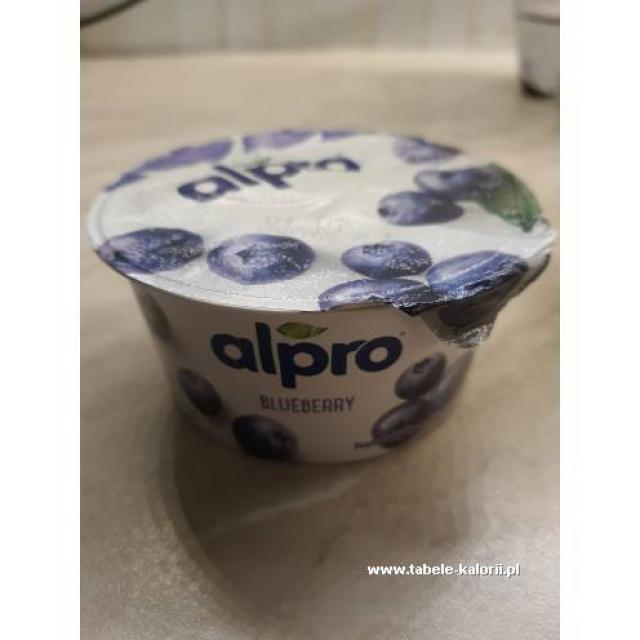yogurt: (87, 126, 554, 466)
